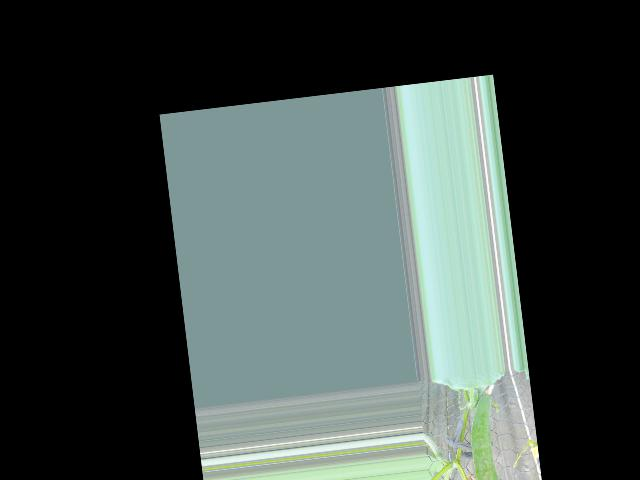cucumber: (464, 394, 503, 480)
